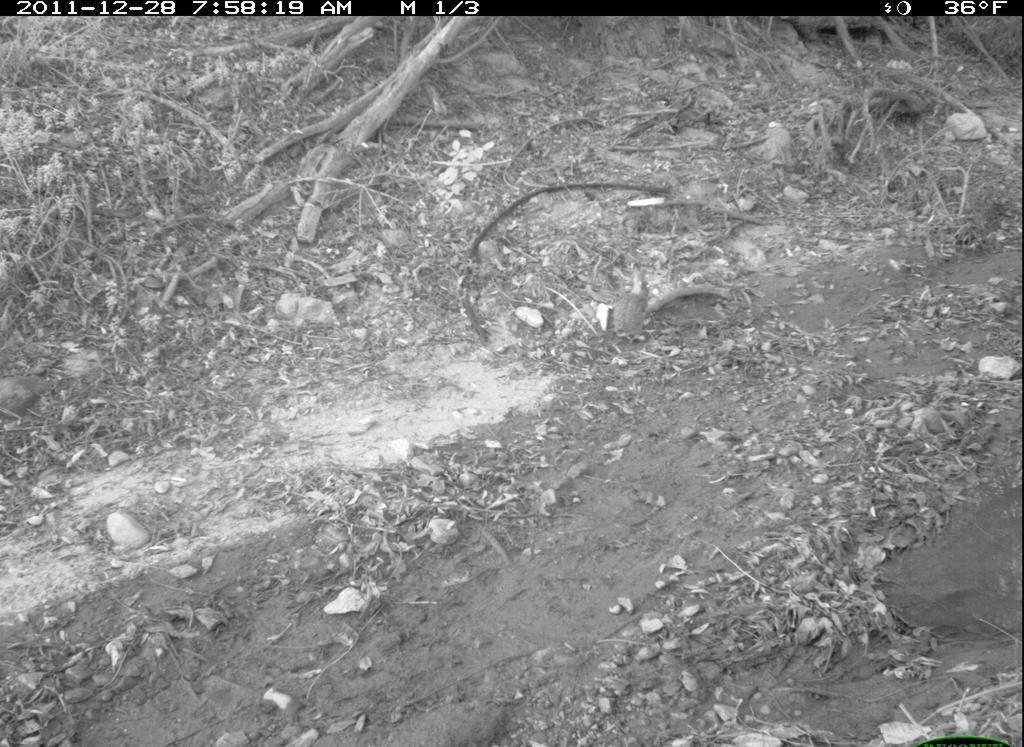rabbit: (589, 262, 683, 346)
